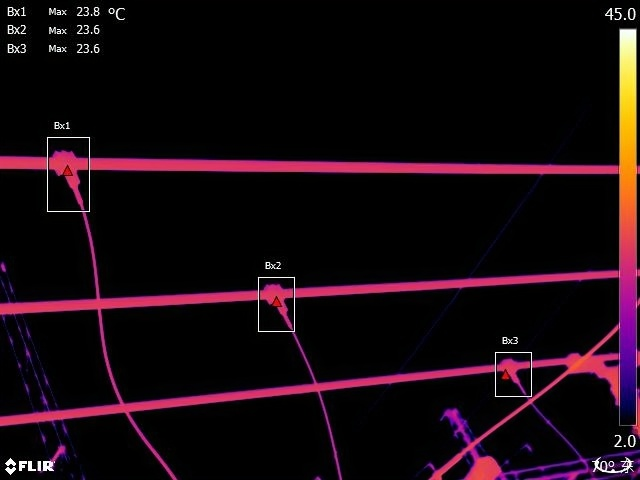clamp: (47, 146, 89, 197), (260, 279, 296, 318), (499, 358, 526, 385)
